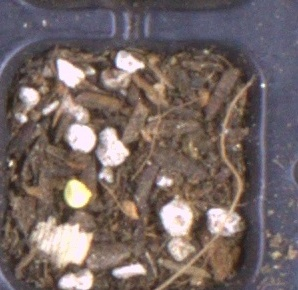chilli seed: (62, 178, 93, 209)
